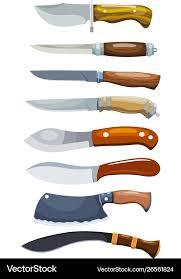Knife: (20, 230, 160, 258), (33, 189, 151, 222), (25, 157, 160, 184), (33, 2, 152, 31), (23, 126, 158, 151), (24, 95, 159, 118), (29, 69, 160, 90), (29, 41, 157, 56)
